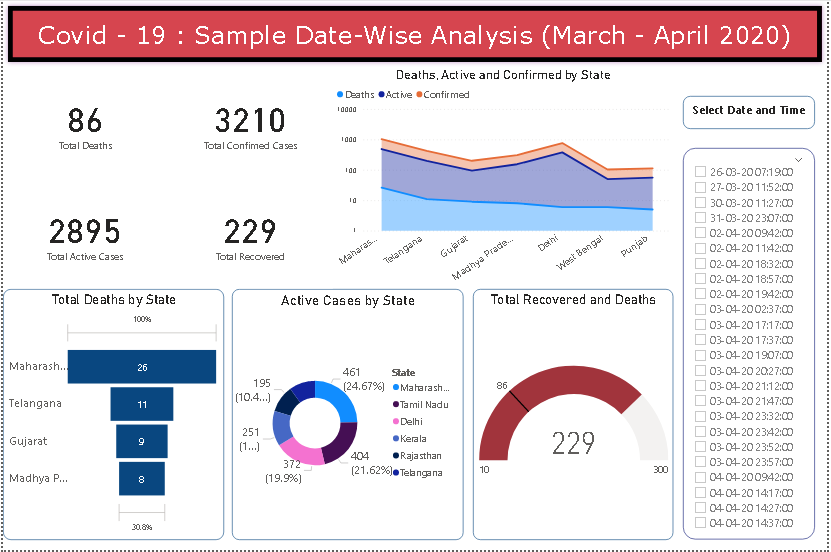

Layout of this report page (visuals, bound fields, positions):
{"tool":"powerbi","page":{"name":"Page 1","canvas":[1350,899],"ordinal":0},"visuals":[{"type":"shape","box":[0,0,1349.3,108.4],"z":0},{"type":"card","fields":{"Values":["StateWiseData.Total Deaths"]},"box":[0,108.7,269.9,181.1],"z":1000},{"type":"card","fields":{"Values":["StateWiseData.Total Confimed Cases"]},"box":[269.9,108.7,269.9,181.1],"z":2000},{"type":"funnel","fields":{"Category":["StateWiseData.State"],"Y":["StateWiseData.Total Deaths"]},"box":[0,470.9,362.3,411.2],"z":3000},{"type":"slicer","fields":{"Values":["StateWiseData.Last_Updated_Time"]},"box":[1114,240.9,215.5,641.2],"z":4000},{"type":"textbox","box":[1114,155.8,215.5,54.3],"z":5000},{"type":"donutChart","title":"Active Cases by State","fields":{"Category":["StateWiseData.State"],"Y":["Sum(StateWiseData.Active)"]},"box":[374.9,470.9,378.6,411.2],"z":6000},{"type":"stackedAreaChart","fields":{"Category":["StateWiseData.State"],"Y":["Sum(StateWiseData.Deaths)","Sum(StateWiseData.Active)","Sum(StateWiseData.Confirmed)"]},"box":[539.8,108.7,557.9,362.3],"z":7000},{"type":"card","fields":{"Values":["StateWiseData.Total Active Cases"]},"box":[0,290,270,181],"z":8000},{"type":"card","fields":{"Values":["StateWiseData.Total Recovered"]},"box":[270,290,270,181],"z":9000},{"type":"gauge","fields":{"Y":["StateWiseData.Total Recovered"],"TargetValue":["Sum(StateWiseData.Deaths)"]},"box":[769.8,470.9,327.8,411.2],"z":10000}]}

Visuals, with their boxes in screenshot pixels (x1, y1, x2, y2), scaled from the page's 1350x899 canvas onto the 831x552 screenshot:
shape: 0/0/830/67
card - StateWiseData.Total Deaths: 0/67/166/178
card - StateWiseData.Total Confimed Cases: 166/67/332/178
funnel - StateWiseData.State x StateWiseData.Total Deaths: 0/289/223/542
slicer - StateWiseData.Last_Updated_Time: 686/148/818/542
textbox: 686/96/818/129
"Active Cases by State" donutChart: 231/289/464/542
stackedAreaChart - StateWiseData.State x Sum(StateWiseData.Deaths): 332/67/676/289
card - StateWiseData.Total Active Cases: 0/178/166/289
card - StateWiseData.Total Recovered: 166/178/332/289
gauge - StateWiseData.Total Recovered x Sum(StateWiseData.Deaths): 474/289/676/542
